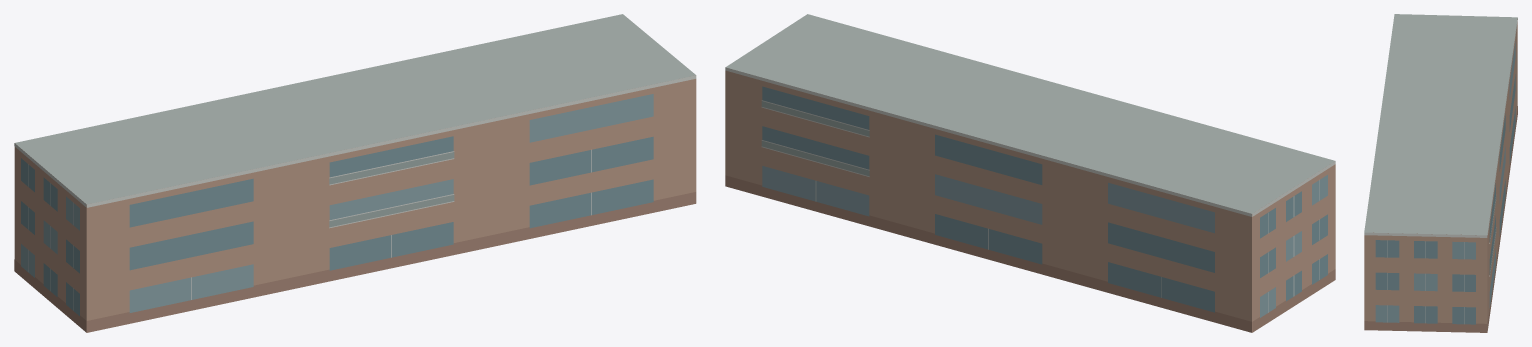
Rendered from survey-upis-32551539.glb.
3 renders of one model, left to right at view 1: azimuth 30°, elevation 25°; view 2: azimuth 150°, elevation 25°; view 3: azimuth 270°, elevation 25°, orthographic. The views are drawn at different scales.
Visible parts, largest first — view 1: survey-upis-32551539.tmp; view 2: survey-upis-32551539.tmp; view 3: survey-upis-32551539.tmp.
Part boxes in pixels (x1,y1,x2,y2): survey-upis-32551539.tmp: (14, 14, 696, 332); survey-upis-32551539.tmp: (725, 14, 1335, 332); survey-upis-32551539.tmp: (1364, 14, 1517, 332).
Size of the model in its own units: 44.54 by 9.15 by 13.07.
